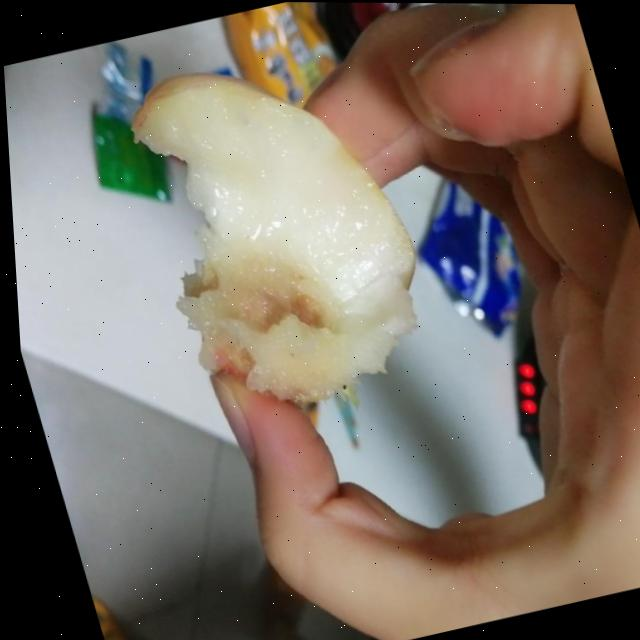Wet: (112, 34, 449, 432), (82, 588, 131, 640)
